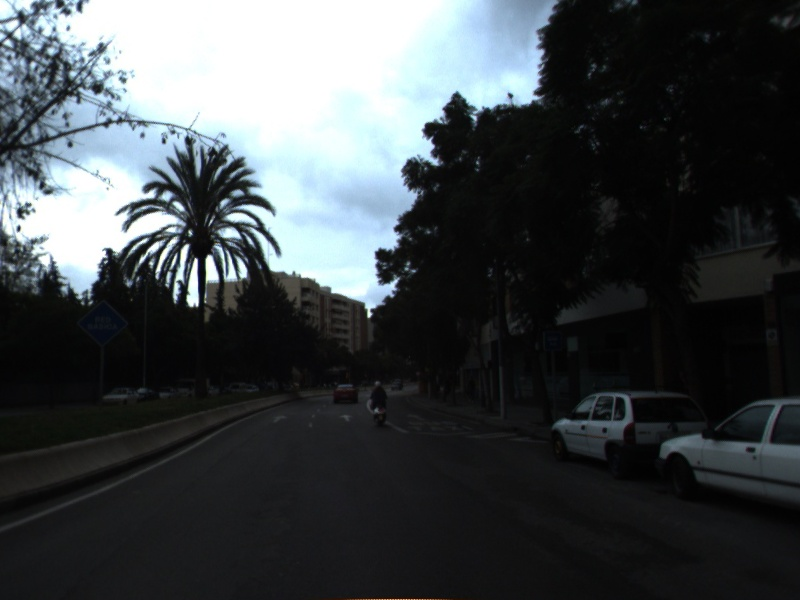STRAIGHT: (270, 413, 290, 425), (337, 412, 355, 424)
